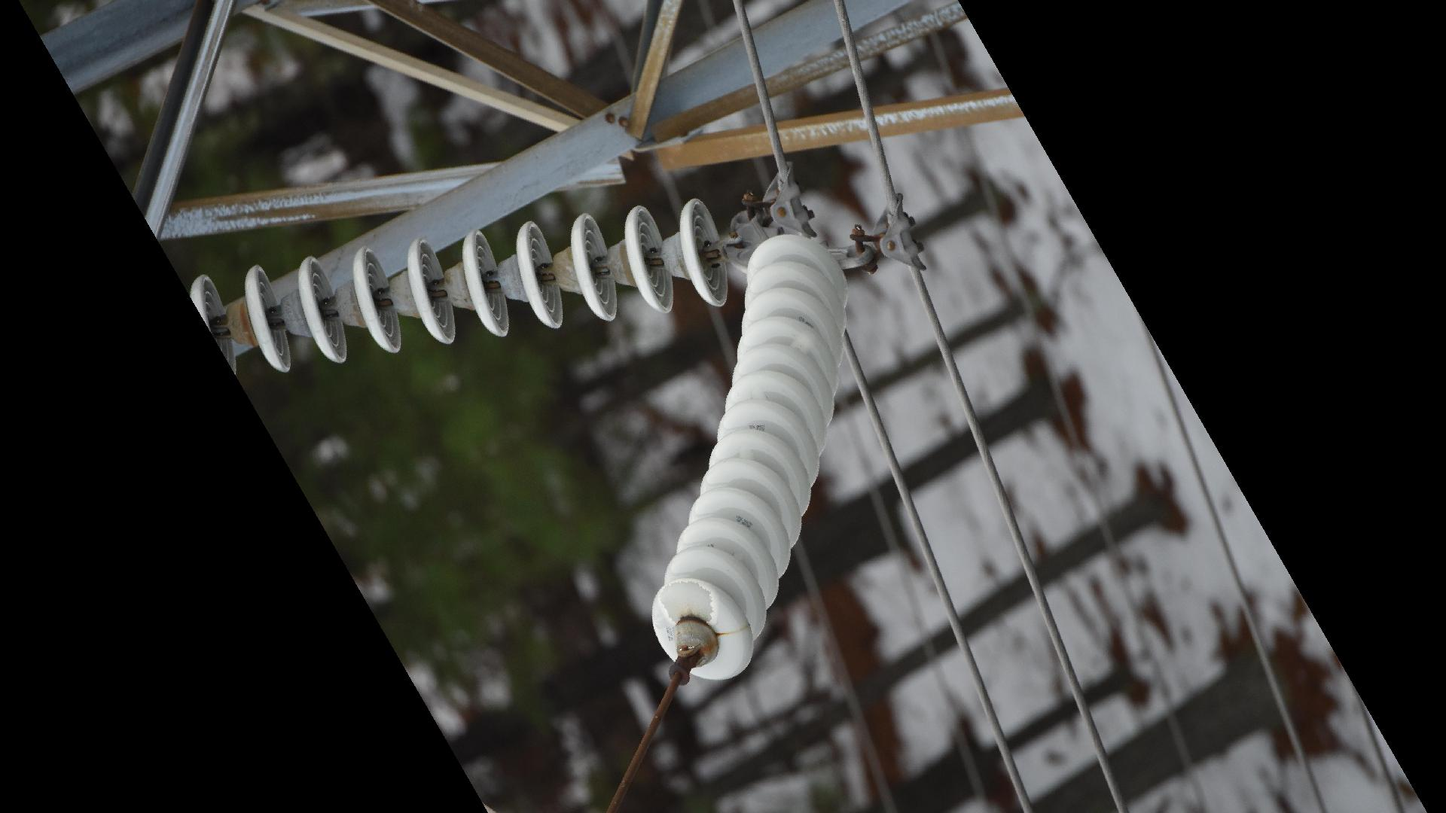insulator: (186, 192, 736, 385), (645, 230, 855, 687)
insulator_flashover: (656, 577, 716, 627)
